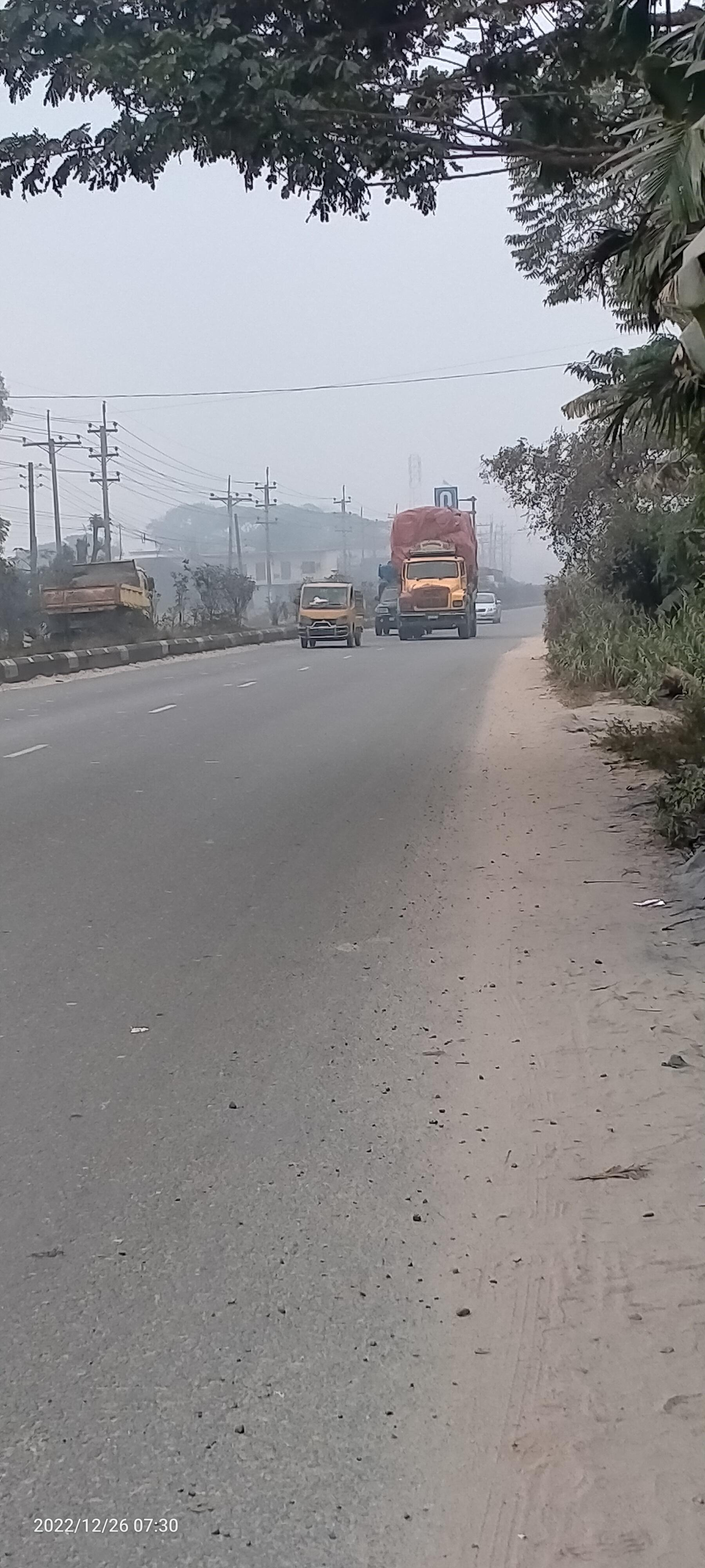Car: (474, 586, 506, 629)
Truck: (387, 504, 480, 642), (42, 555, 167, 653), (285, 575, 367, 653)
